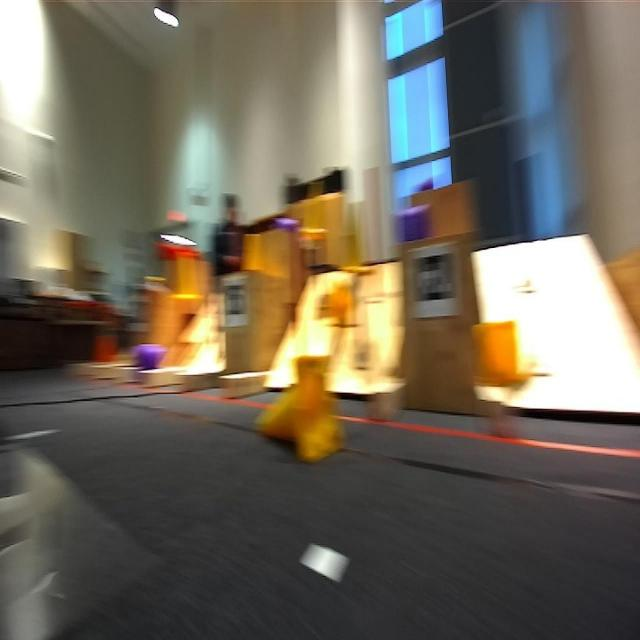frc_cone: (259, 351, 347, 462), (472, 316, 532, 394), (323, 197, 366, 281), (298, 176, 326, 246), (168, 250, 202, 306), (240, 233, 270, 273)
frc_cube: (396, 204, 430, 242), (136, 340, 161, 374), (275, 213, 301, 230), (413, 177, 438, 189)
